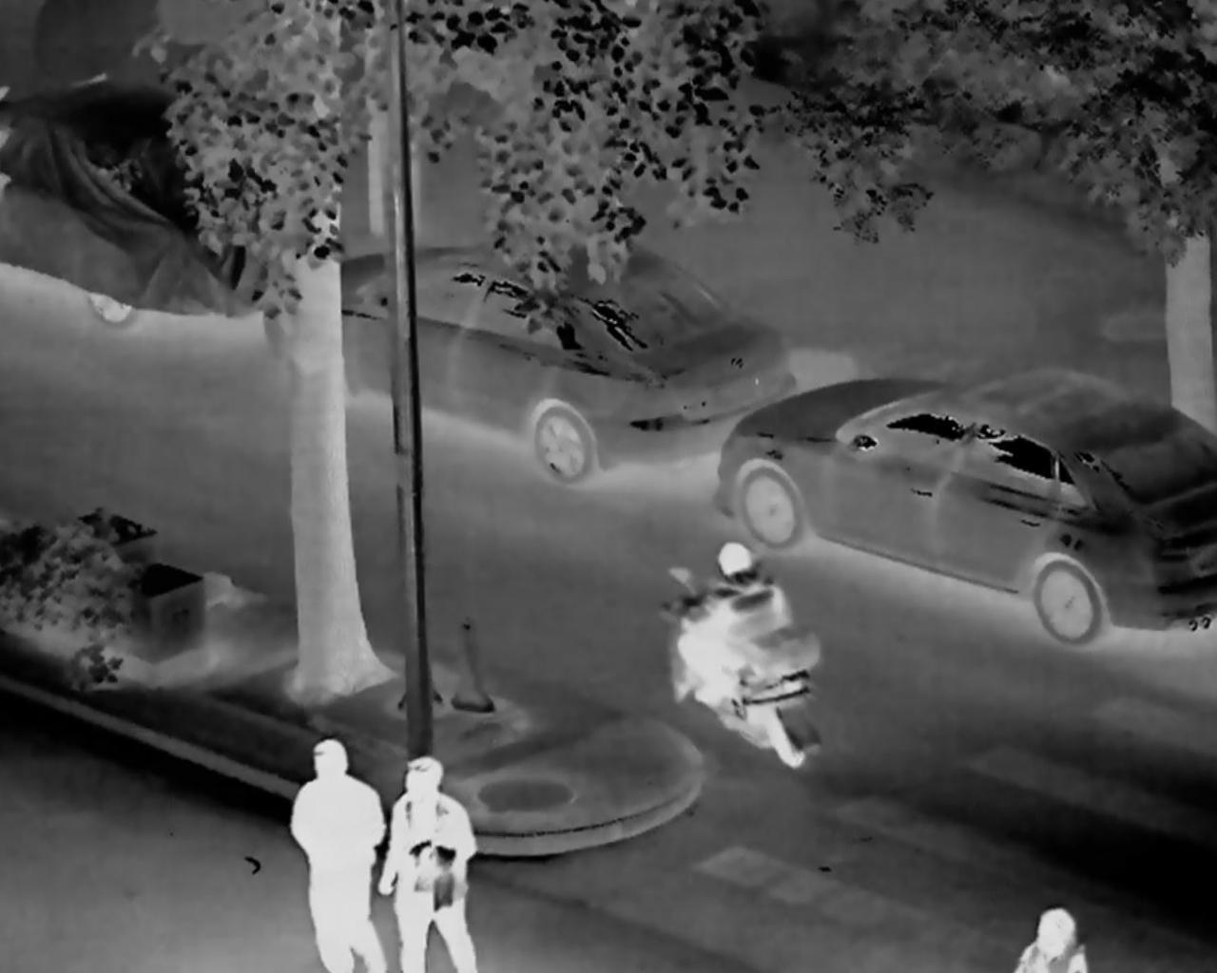person: (284, 735, 397, 973), (373, 734, 482, 973), (674, 534, 782, 754), (985, 886, 1096, 973)
